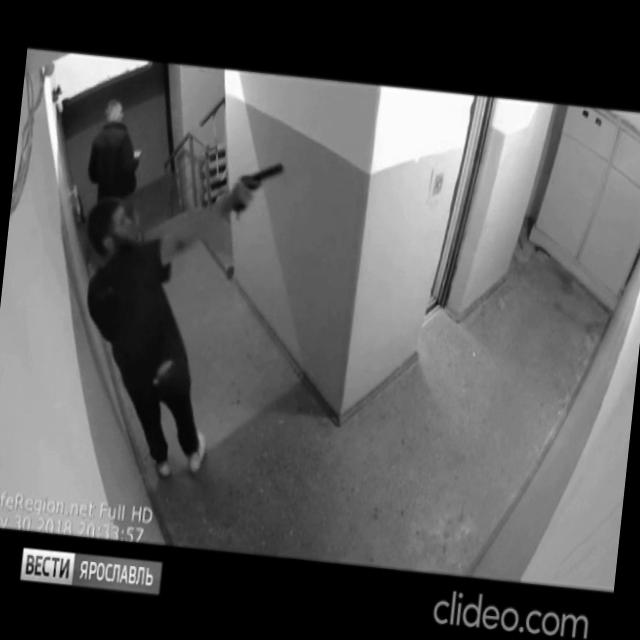gun: (226, 155, 287, 220)
person: (77, 95, 154, 282)
person with a gun: (59, 138, 288, 492)
